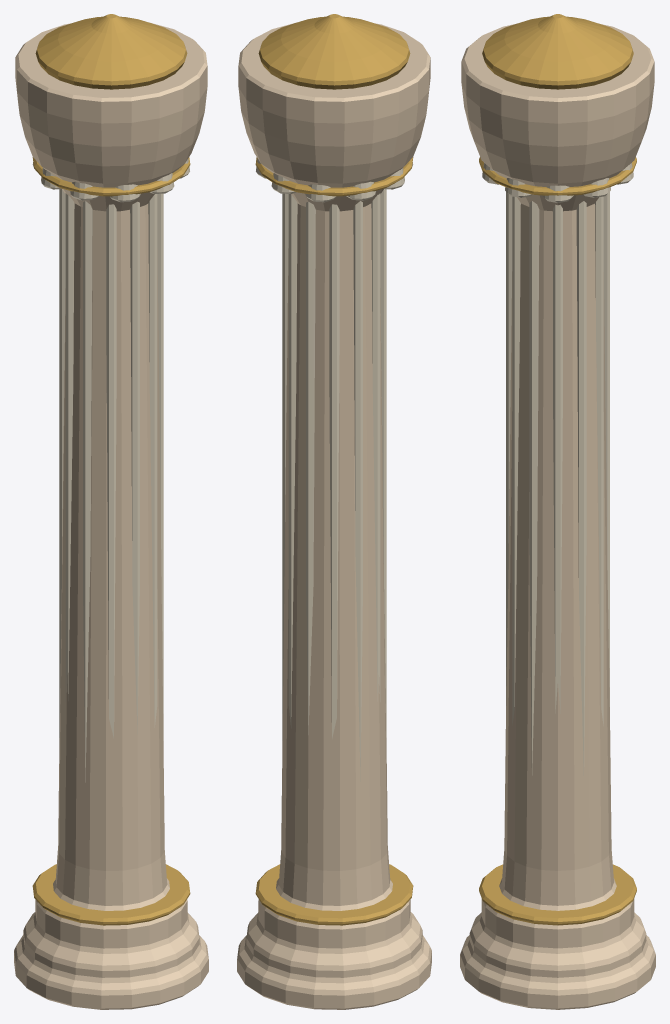
The model's file is carved-monolith.glb.
3 renders of one model, left to right at view 1: azimuth 30°, elevation 25°; view 2: azimuth 150°, elevation 25°; view 3: azimuth 270°, elevation 25°, orthographic.
Visible parts, largest first — view 1: Preview_carved-monolith; view 2: Preview_carved-monolith; view 3: Preview_carved-monolith.
Part boxes in pixels (x1,y1,x2,y2): Preview_carved-monolith: [14, 14, 208, 1009]; Preview_carved-monolith: [237, 14, 431, 1009]; Preview_carved-monolith: [460, 14, 655, 1009].
Bounding box in the file's own units: 1.17 × 6.28 × 1.17.
